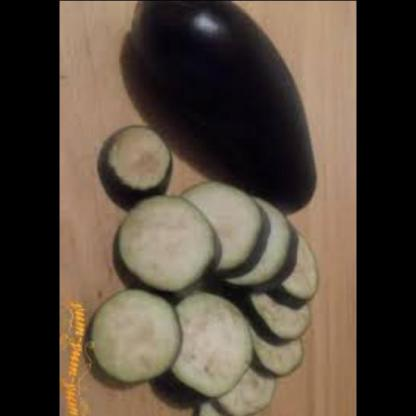eggplant: (86, 142, 326, 415), (118, 3, 330, 206)
